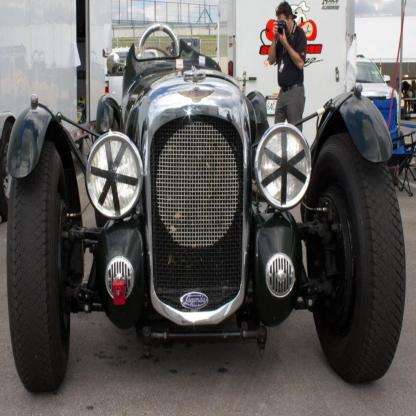Car: (9, 23, 407, 396), (357, 58, 400, 143)
